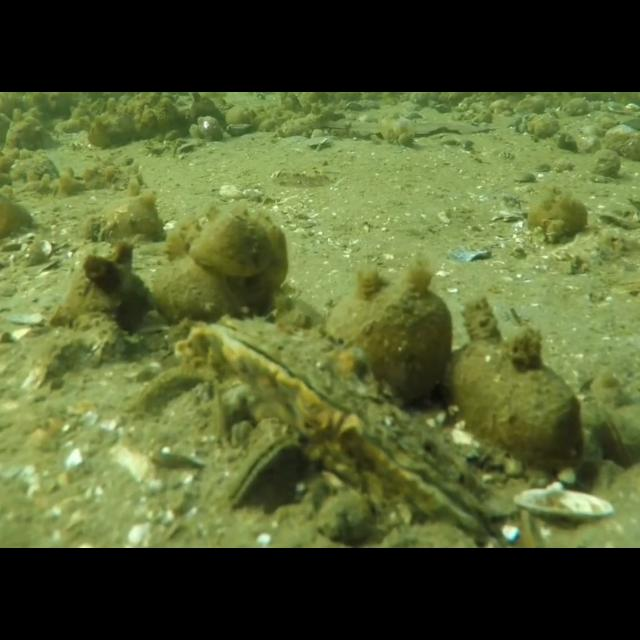Oyster-Closed: (572, 394, 640, 466)
Oyster-Open: (188, 312, 492, 530), (218, 426, 308, 514), (510, 481, 610, 521)
